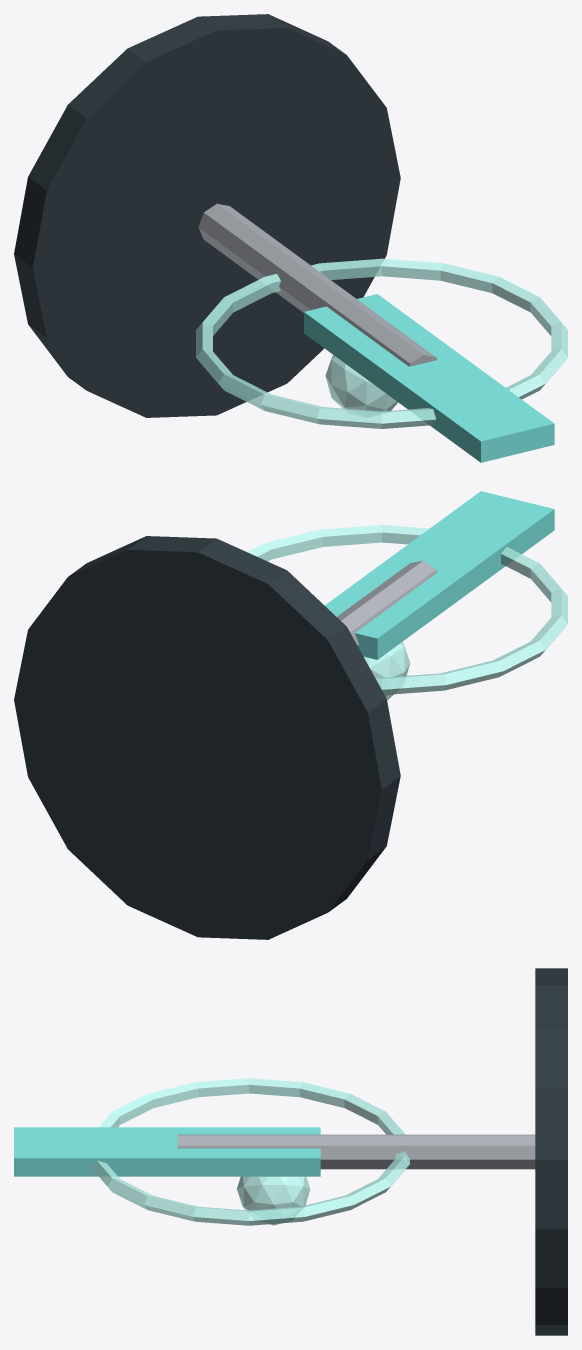
File: 06_item_weapon_finish_overlay_6.glb
3 views of the same model, one above another, from view 1: azimuth 30°, elevation 25°; view 2: azimuth 150°, elevation 25°; view 3: azimuth 270°, elevation 25° (orthographic). The views are drawn at different scales.
Visible parts, largest first — view 1: display_base, finish_blade_preview, finish_orbit, weapon_handle_preview, rarity_gem; view 2: display_base, finish_blade_preview, finish_orbit, weapon_handle_preview, rarity_gem; view 3: finish_blade_preview, display_base, finish_orbit, weapon_handle_preview, rarity_gem.
Boxes of the visible parts, box(x1,y1,x2,y2) form: display_base: box(14, 14, 400, 417); finish_blade_preview: box(304, 294, 554, 462); finish_orbit: box(196, 258, 567, 428); weapon_handle_preview: box(198, 203, 437, 366); rarity_gem: box(325, 355, 397, 411); display_base: box(14, 536, 400, 939); finish_blade_preview: box(325, 491, 554, 659); finish_orbit: box(247, 525, 567, 694); weapon_handle_preview: box(337, 560, 437, 646); rarity_gem: box(364, 642, 410, 700); finish_blade_preview: box(14, 1127, 320, 1176); display_base: box(535, 968, 567, 1335); finish_orbit: box(91, 1078, 409, 1225); weapon_handle_preview: box(177, 1134, 535, 1169); rarity_gem: box(237, 1176, 310, 1225).
Bounding box in the file's own units: 0.9 × 0.9 × 1.36.
